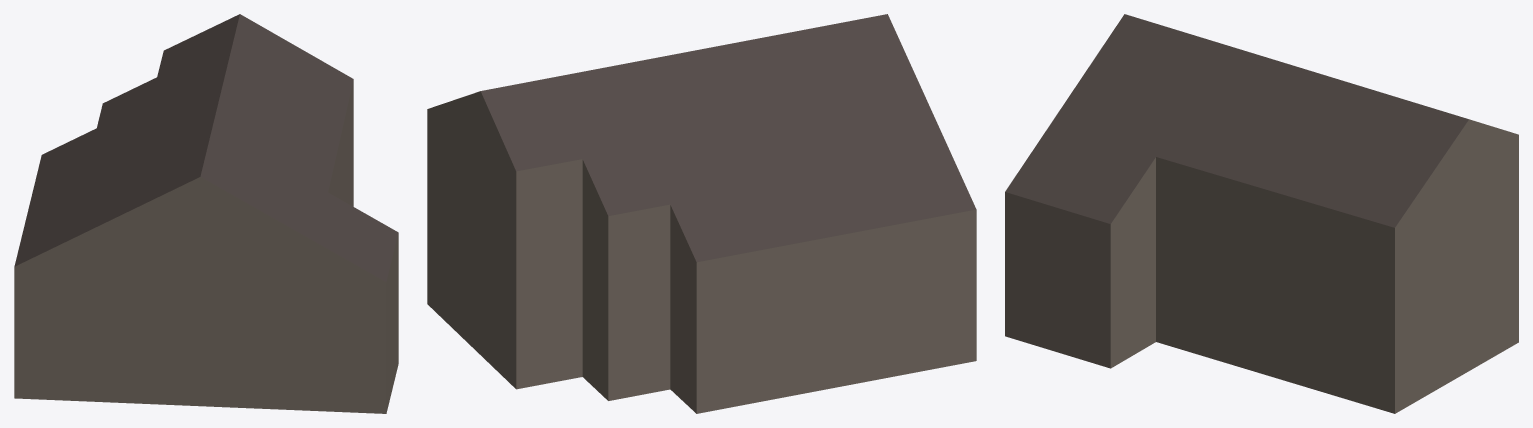
3 views of the same model, side by side, from view 1: azimuth 30°, elevation 25°; view 2: azimuth 150°, elevation 25°; view 3: azimuth 270°, elevation 25° (orthographic). The views are drawn at different scales.
Parts seen in each view (by area): view 1: HP-w1331504963; view 2: HP-w1331504963; view 3: HP-w1331504963.
Part boxes in pixels (<box>): HP-w1331504963: <box>14,14,398,413</box>; HP-w1331504963: <box>427,14,976,413</box>; HP-w1331504963: <box>1005,14,1518,413</box>.
Bounding box in the file's own units: 19.48 × 10.46 × 19.35.
